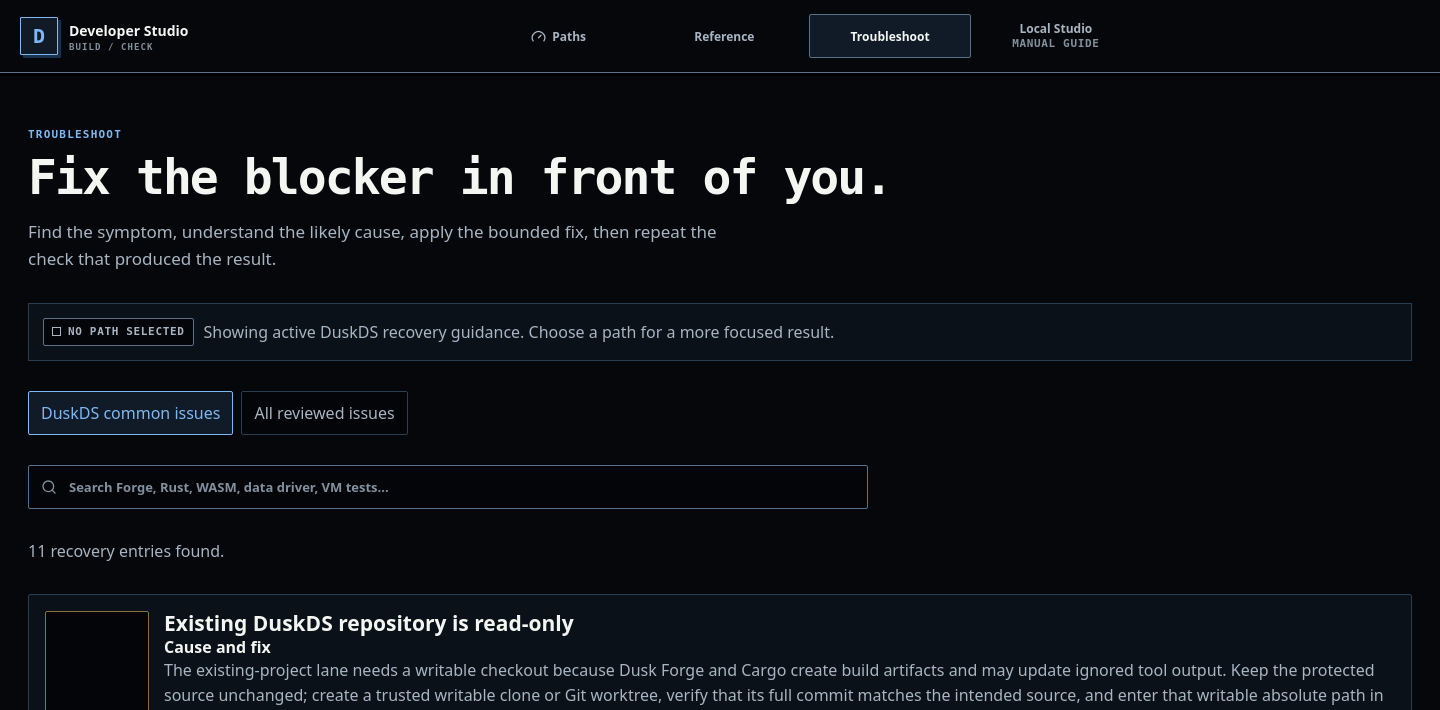
Test case: App › selects DuskDS before opening a recovery action from a pathless session
Type "deep path" into the field labelled "Search".
click(448, 487); type("deep path")  # box [28,465,868,509]
(page scrolled)
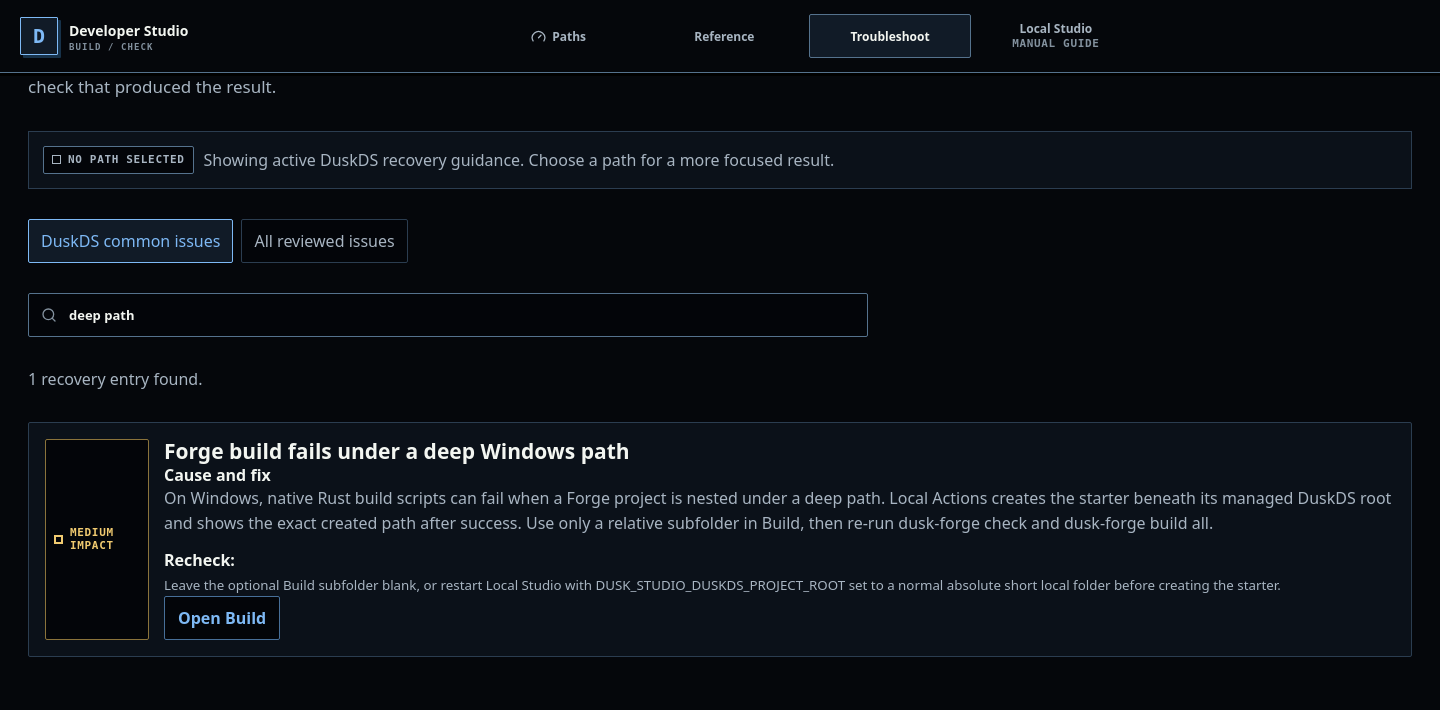
Click the button "Open Build".
click(222, 618)  # box [164,596,280,640]
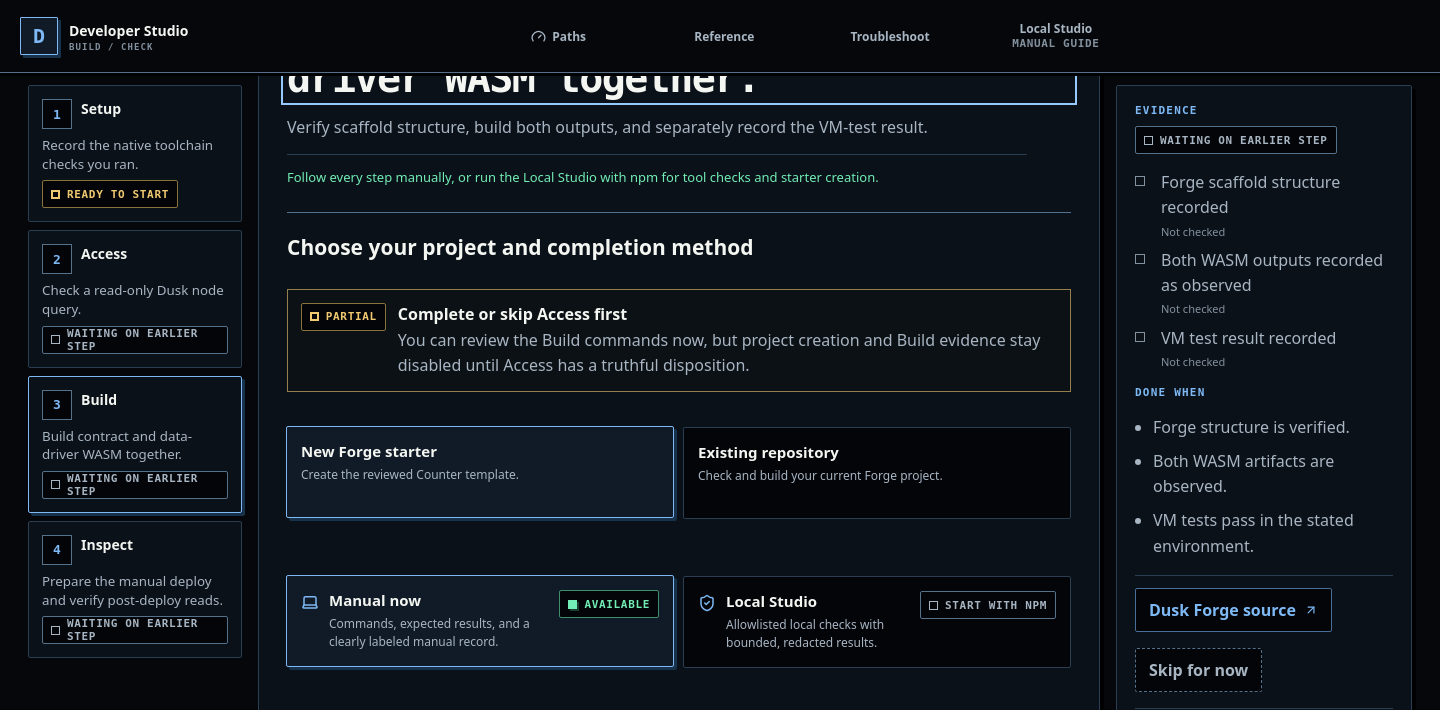
Check: the heading "Build contract and data-driver WASM together." is shown, box [287,13,827,101]
